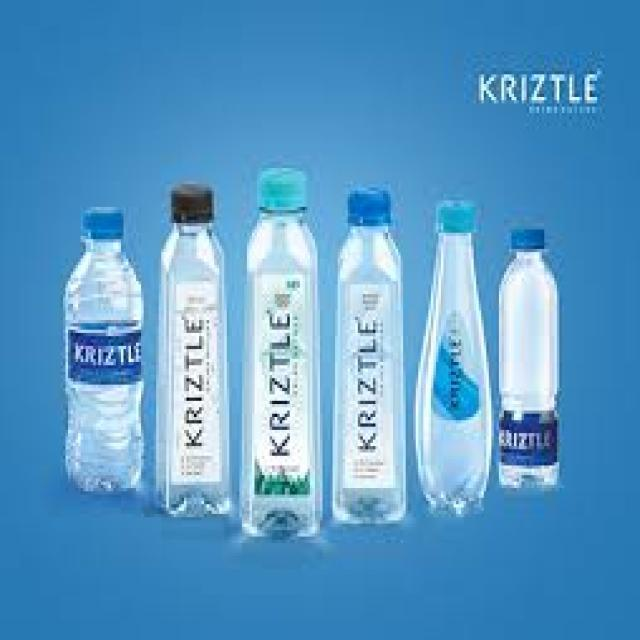bottle: (46, 172, 146, 517), (240, 160, 322, 558), (328, 173, 412, 537), (156, 165, 232, 548), (419, 182, 497, 528), (500, 206, 576, 514)
